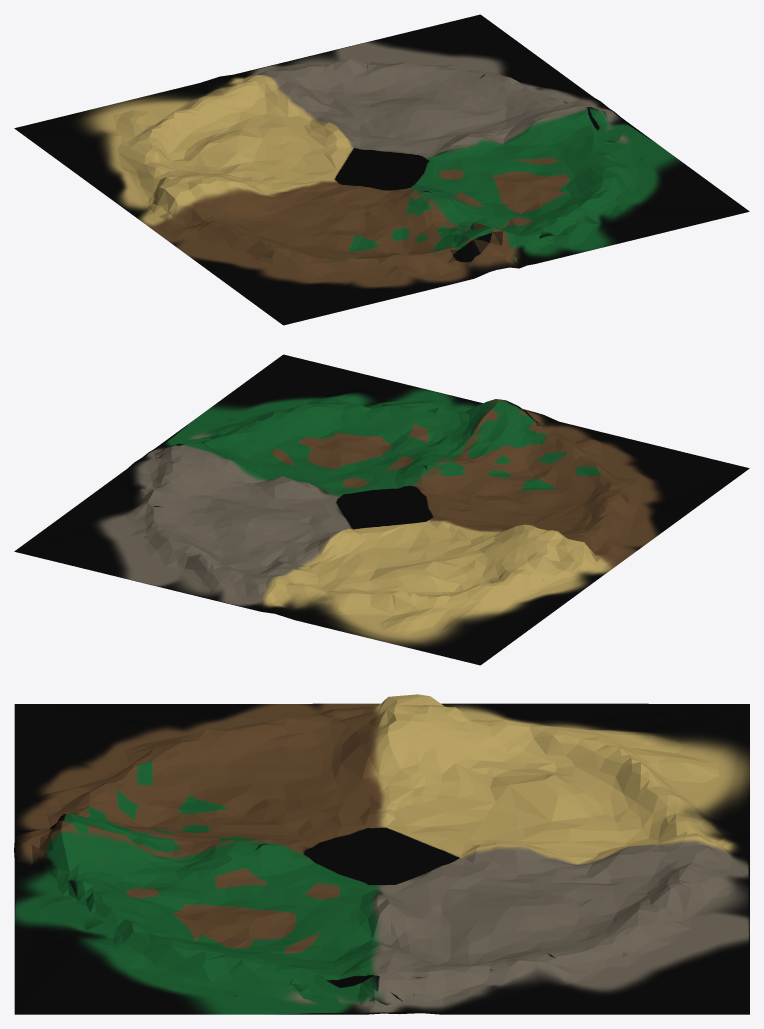
The model's file is ondergrondniew.fbx.
The picture shows the model from 3 angles, top to bottom: view 1: azimuth 30°, elevation 25°; view 2: azimuth 150°, elevation 25°; view 3: azimuth 270°, elevation 25°; orthographic projection. The views are drawn at different scales.
Visible parts, largest first — view 1: Plane; view 2: Plane; view 3: Plane.
Part boxes in pixels (box(x1,y1,x2,y2)): Plane: box(14, 14, 749, 325); Plane: box(14, 354, 749, 665); Plane: box(14, 694, 749, 1014).
Size of the model in its own units: 1952 by 132 by 1954.
